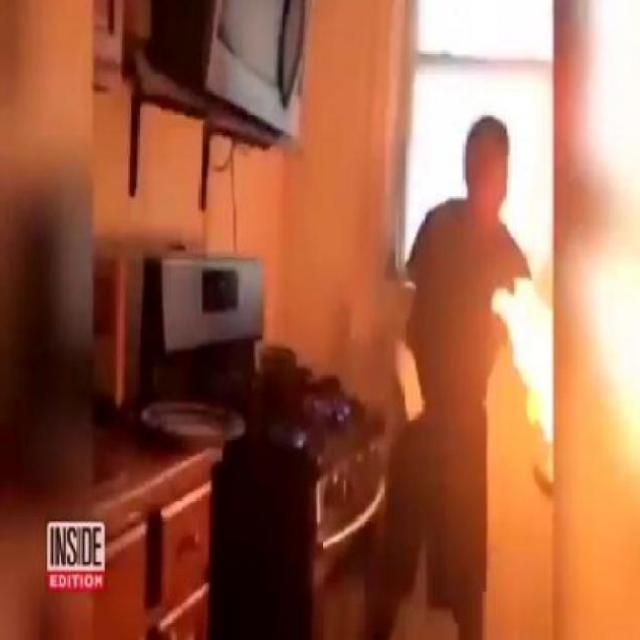smoke: (490, 265, 556, 450)
